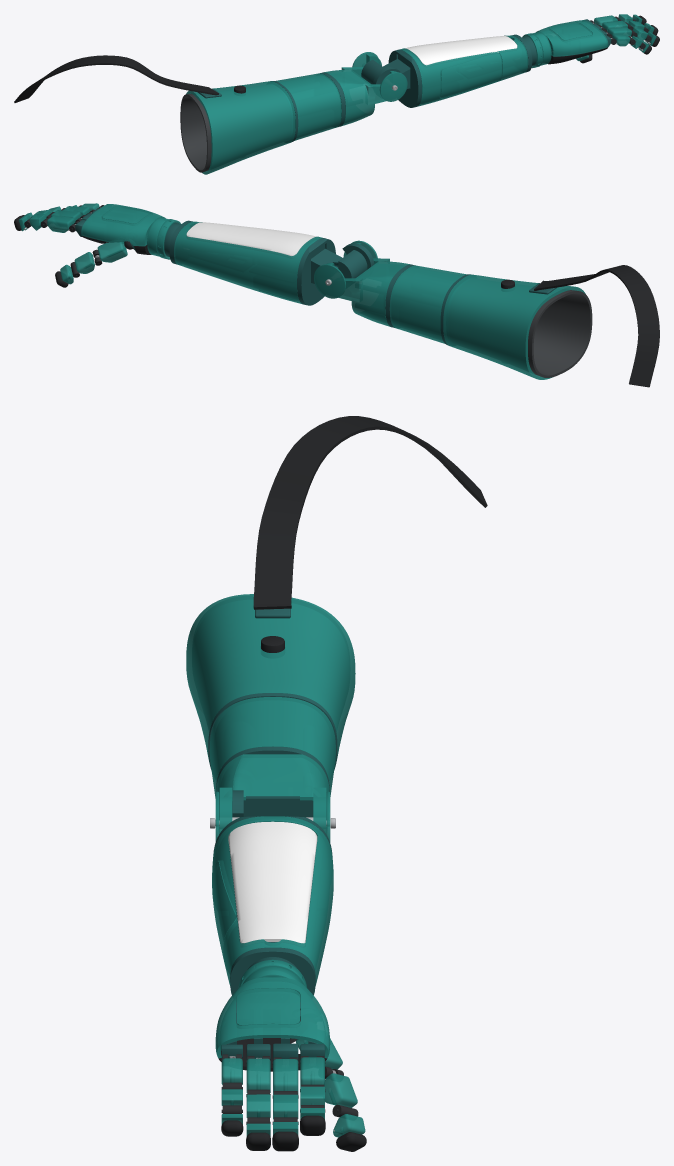
The model's file is LRM_Protesis_V1_rig.glb.
3 renders of one model, top to bottom at view 1: azimuth 30°, elevation 25°; view 2: azimuth 150°, elevation 25°; view 3: azimuth 270°, elevation 25°, orthographic. The views are drawn at different scales.
Visible parts, largest first — view 1: socket_transhumeral, arm_cosmetic_cover, forearm_main_housing, liner_silicona_medica, elbow_body_proximal, forearm_lateral_cosmetic_cover, solar_panel_dorsal_forearm, suspension_harness, palm_dorsal, forearm_proximal_cap, elbow_lateral_cover_lateral, elbow_body_distal (+5 smaller); view 2: socket_transhumeral, forearm_main_housing, liner_silicona_medica, arm_cosmetic_cover, suspension_harness, solar_panel_dorsal_forearm, elbow_body_proximal, palm_dorsal, forearm_proximal_cap, elbow_body_distal, elbow_lateral_cover_medial, palm_cosmetic_cover (+7 smaller); view 3: socket_transhumeral, solar_panel_dorsal_forearm, suspension_harness, arm_cosmetic_cover, forearm_main_housing, elbow_body_proximal, palm_dorsal, palm_cosmetic_cover, forearm_distal_cap, forearm_lateral_cosmetic_cover, elbow_body_distal, arm_distal_cap.
Boxes of the visible parts, left/top/right/bottom form: socket_transhumeral: left=186, top=81, right=295, bottom=174; arm_cosmetic_cover: left=276, top=73, right=341, bottom=140; forearm_main_housing: left=399, top=35, right=528, bottom=106; liner_silicona_medica: left=180, top=94, right=211, bottom=172; elbow_body_proximal: left=324, top=54, right=396, bottom=126; forearm_lateral_cosmetic_cover: left=440, top=52, right=502, bottom=98; solar_panel_dorsal_forearm: left=405, top=36, right=517, bottom=65; suspension_harness: left=14, top=55, right=218, bottom=102; palm_dorsal: left=536, top=20, right=608, bottom=56; forearm_proximal_cap: left=388, top=49, right=421, bottom=107; elbow_lateral_cover_lateral: left=379, top=72, right=407, bottom=101; elbow_body_distal: left=361, top=59, right=410, bottom=88; socket_transhumeral: left=443, top=274, right=585, bottom=379; forearm_main_housing: left=174, top=221, right=322, bottom=304; liner_silicona_medica: left=528, top=290, right=592, bottom=377; arm_cosmetic_cover: left=390, top=265, right=466, bottom=343; suspension_harness: left=534, top=265, right=659, bottom=387; solar_panel_dorsal_forearm: left=186, top=222, right=316, bottom=256; elbow_body_proximal: left=326, top=243, right=411, bottom=326; palm_dorsal: left=81, top=204, right=165, bottom=246; forearm_proximal_cap: left=297, top=238, right=335, bottom=305; elbow_body_distal: left=311, top=248, right=367, bottom=283; elbow_lateral_cover_medial: left=314, top=264, right=345, bottom=298; palm_cosmetic_cover: left=102, top=206, right=152, bottom=223; socket_transhumeral: left=186, top=594, right=355, bottom=761; solar_panel_dorsal_forearm: left=228, top=821, right=317, bottom=943; suspension_harness: left=253, top=416, right=487, bottom=609; arm_cosmetic_cover: left=209, top=697, right=335, bottom=798; forearm_main_housing: left=212, top=816, right=333, bottom=986; elbow_body_proximal: left=216, top=754, right=329, bottom=833; palm_dorsal: left=215, top=977, right=330, bottom=1058; palm_cosmetic_cover: left=237, top=988, right=299, bottom=1025; forearm_distal_cap: left=230, top=947, right=315, bottom=995; forearm_lateral_cosmetic_cover: left=212, top=861, right=236, bottom=958; elbow_body_distal: left=246, top=796, right=299, bottom=816; arm_distal_cap: left=216, top=746, right=329, bottom=817.
Bounding box in the file's own units: 0.9124 × 0.1836 × 0.2008.
